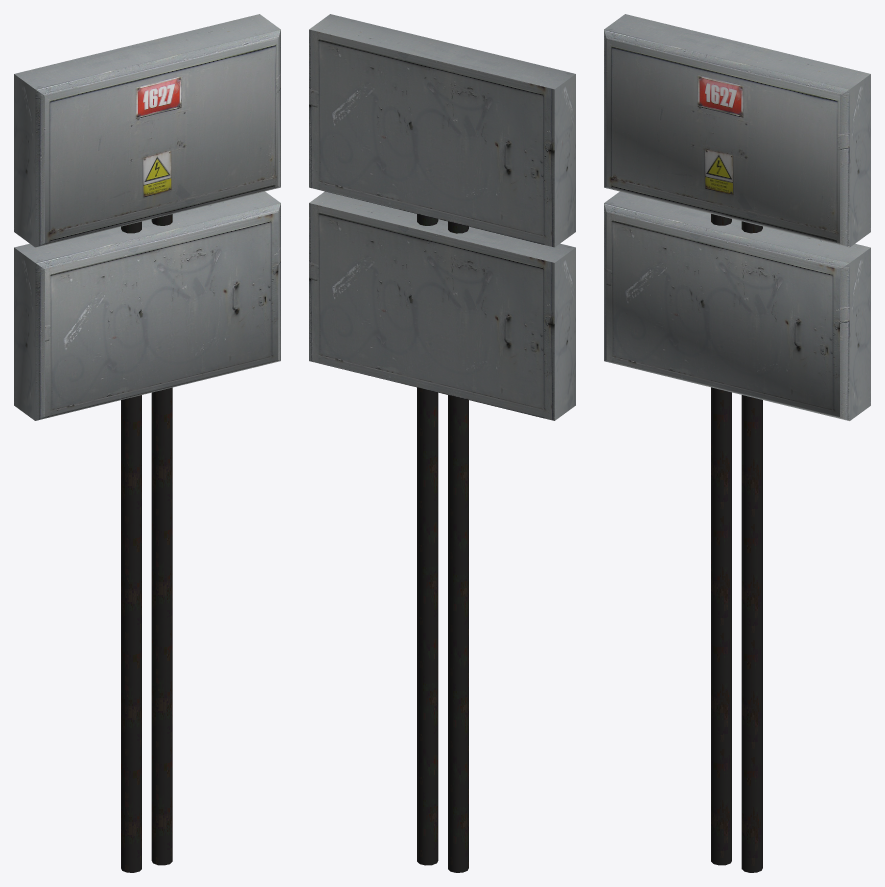
The model's file is electrical_box.fbx.
3 views of the same model, side by side, from view 1: azimuth 30°, elevation 25°; view 2: azimuth 150°, elevation 25°; view 3: azimuth 330°, elevation 25° (orthographic).
Visible parts, largest first — view 1: Mesh Object; view 2: Mesh Object; view 3: Mesh Object.
Part boxes in pixels (left/top/right/bottom): Mesh Object: left=14, top=14, right=280, bottom=872; Mesh Object: left=309, top=14, right=575, bottom=872; Mesh Object: left=604, top=14, right=870, bottom=872.
Size of the model in its own units: 0.5512 by 1.74 by 0.096.
